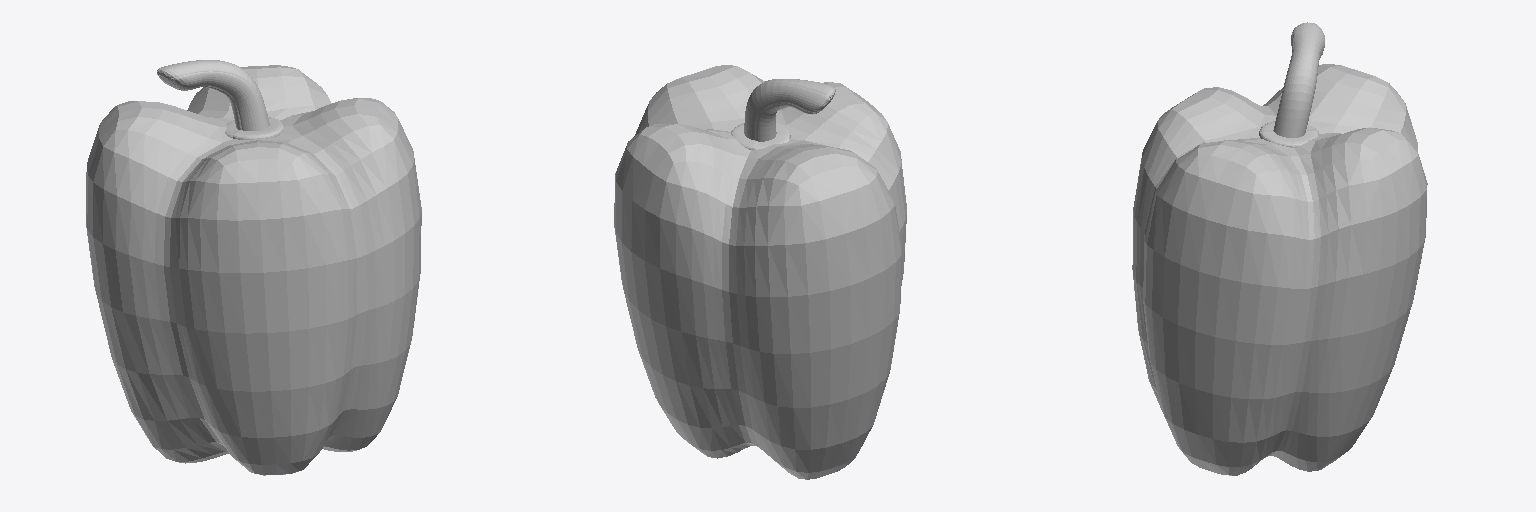
The model's file is Peppers.obj.
3 renders of one model, left to right at view 1: azimuth 30°, elevation 25°; view 2: azimuth 150°, elevation 25°; view 3: azimuth 270°, elevation 25°, orthographic.
Visible parts, largest first — view 1: green_pepper_Cylinder.008; view 2: green_pepper_Cylinder.008; view 3: green_pepper_Cylinder.008.
Part boxes in pixels (x1,y1,x2,y2): green_pepper_Cylinder.008: (86, 60, 421, 475); green_pepper_Cylinder.008: (614, 65, 906, 479); green_pepper_Cylinder.008: (1132, 22, 1427, 475).
Bounding box in the file's own units: 2.06 × 2.76 × 1.88.